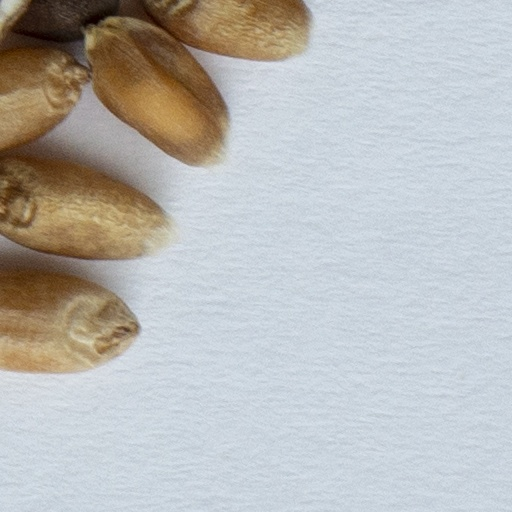Convolvulus-poly: (13, 0, 117, 40)
